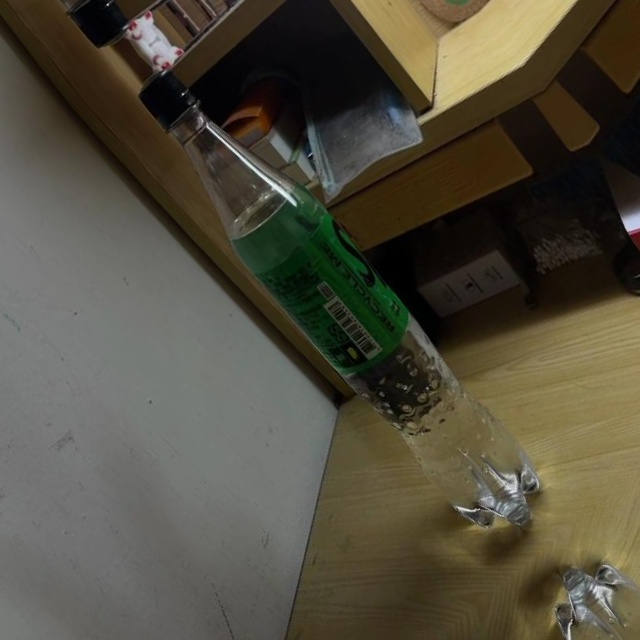Sprite: (114, 48, 565, 560)
